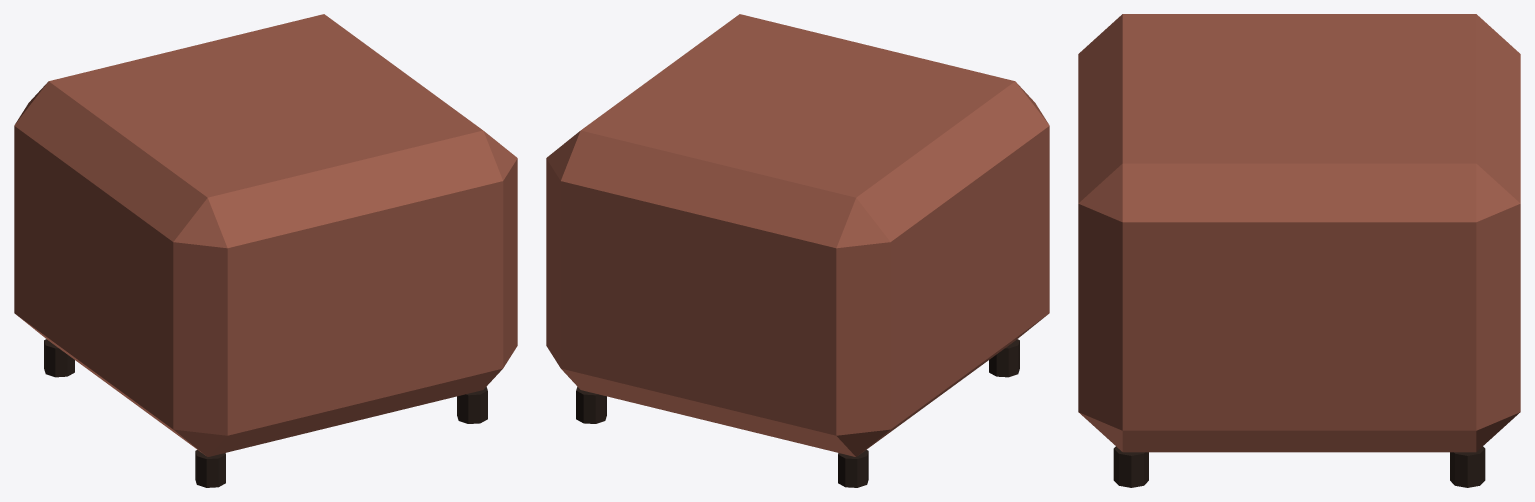
Rendered from ottoman.fbx.
3 renders of one model, left to right at view 1: azimuth 30°, elevation 25°; view 2: azimuth 150°, elevation 25°; view 3: azimuth 270°, elevation 25°, orthographic. The views are drawn at different scales.
Parts seen in each view (by area): view 1: ottoman; view 2: ottoman; view 3: ottoman.
Part boxes in pixels (bbox=[...]): ottoman: bbox=[14, 14, 517, 487]; ottoman: bbox=[546, 14, 1049, 487]; ottoman: bbox=[1078, 14, 1520, 487].
Bounding box in the file's own units: 0.5 × 0.4 × 0.5.
